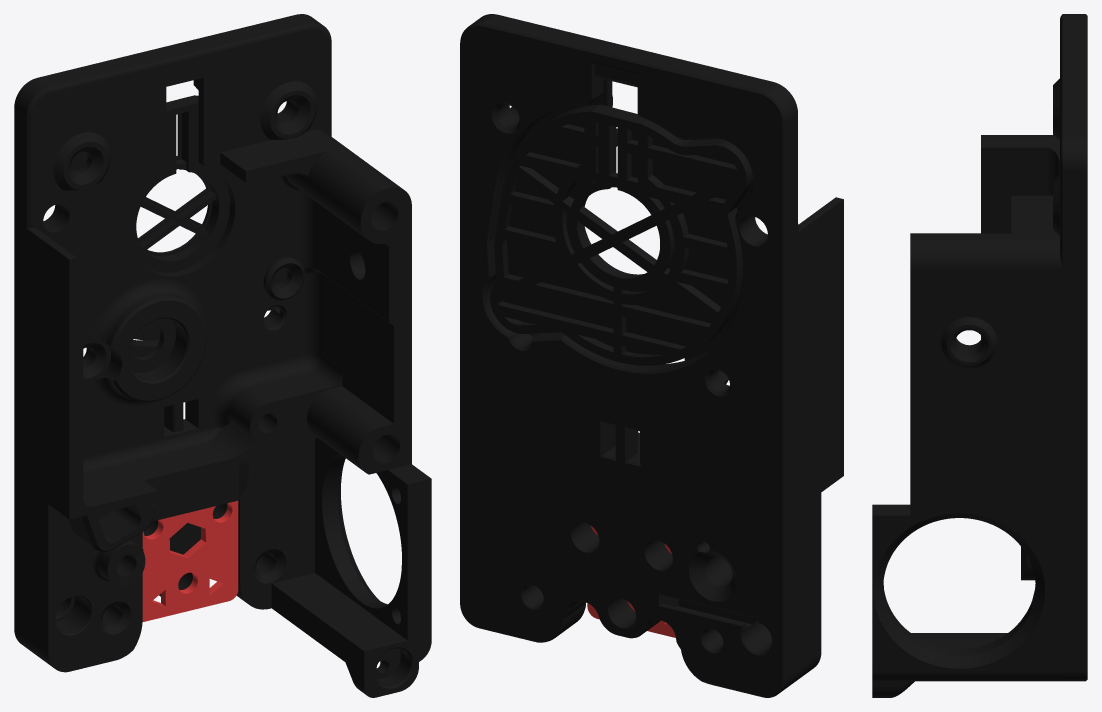
Rendered from Main Body for H2S Extruder gear.glb.
3 renders of one model, left to right at view 1: azimuth 30°, elevation 25°; view 2: azimuth 150°, elevation 25°; view 3: azimuth 270°, elevation 25°, orthographic. The views are drawn at different scales.
Bounding box in the file's own units: 0.0539 × 0.0984 × 0.034.
